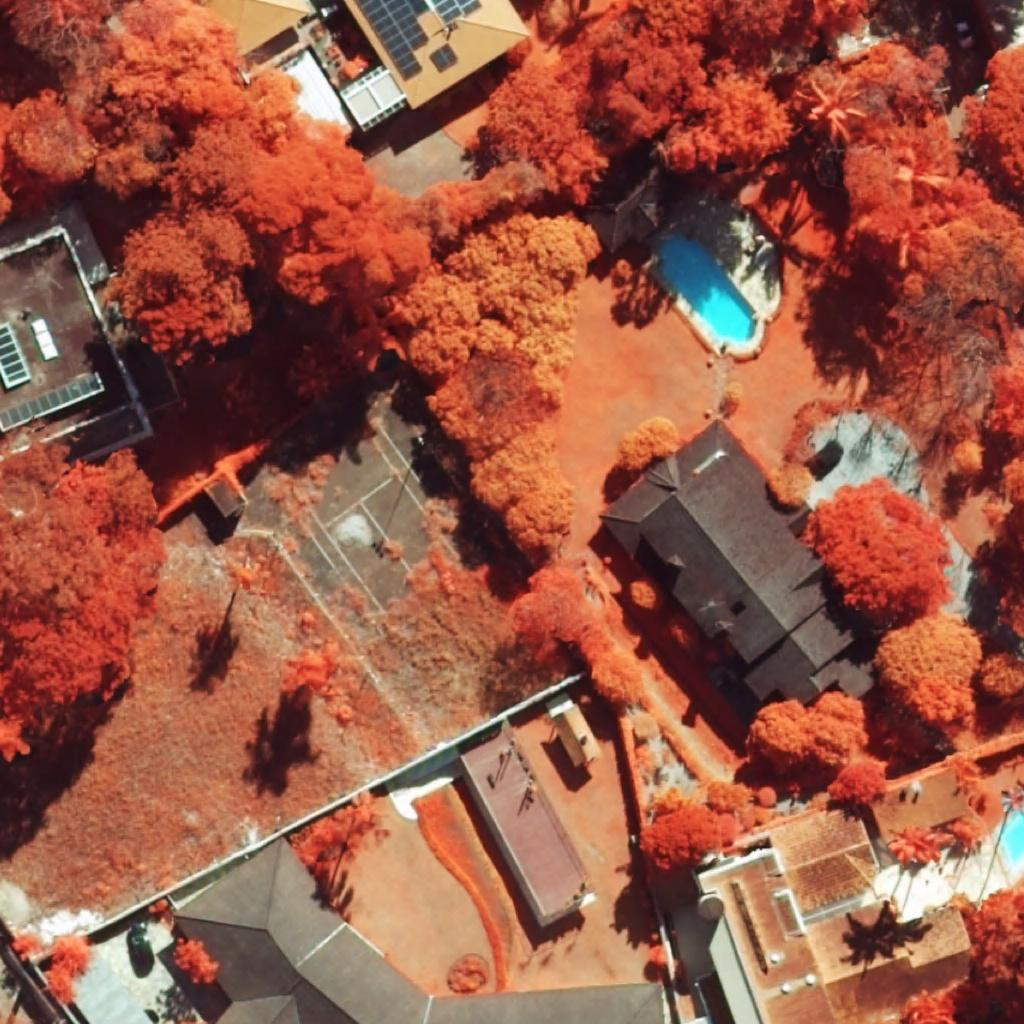pool: (658, 236, 756, 343), (1002, 809, 1024, 867)
